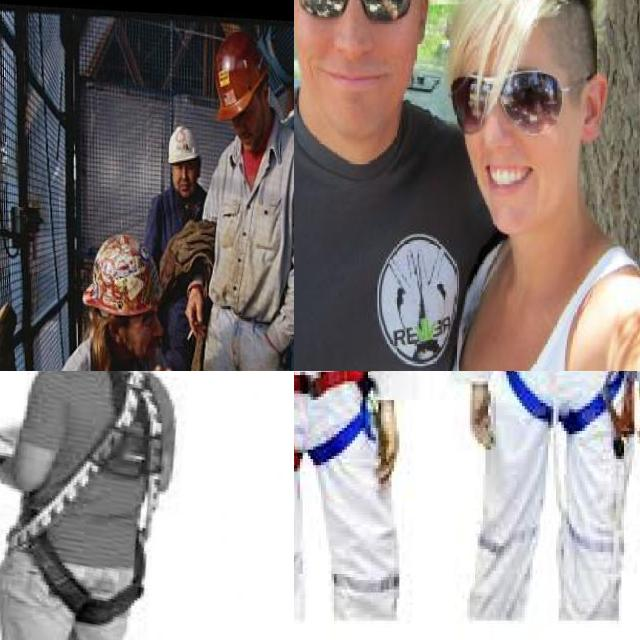Harness: (7, 371, 162, 622)
No_Ear-Protection: (578, 64, 612, 146)
face_nomask: (461, 74, 566, 200), (294, 0, 423, 101)
glasses: (444, 65, 584, 136), (294, 0, 430, 29)
head_nohelmet: (450, 0, 612, 50)
person: (419, 0, 640, 371), (294, 0, 488, 371)
